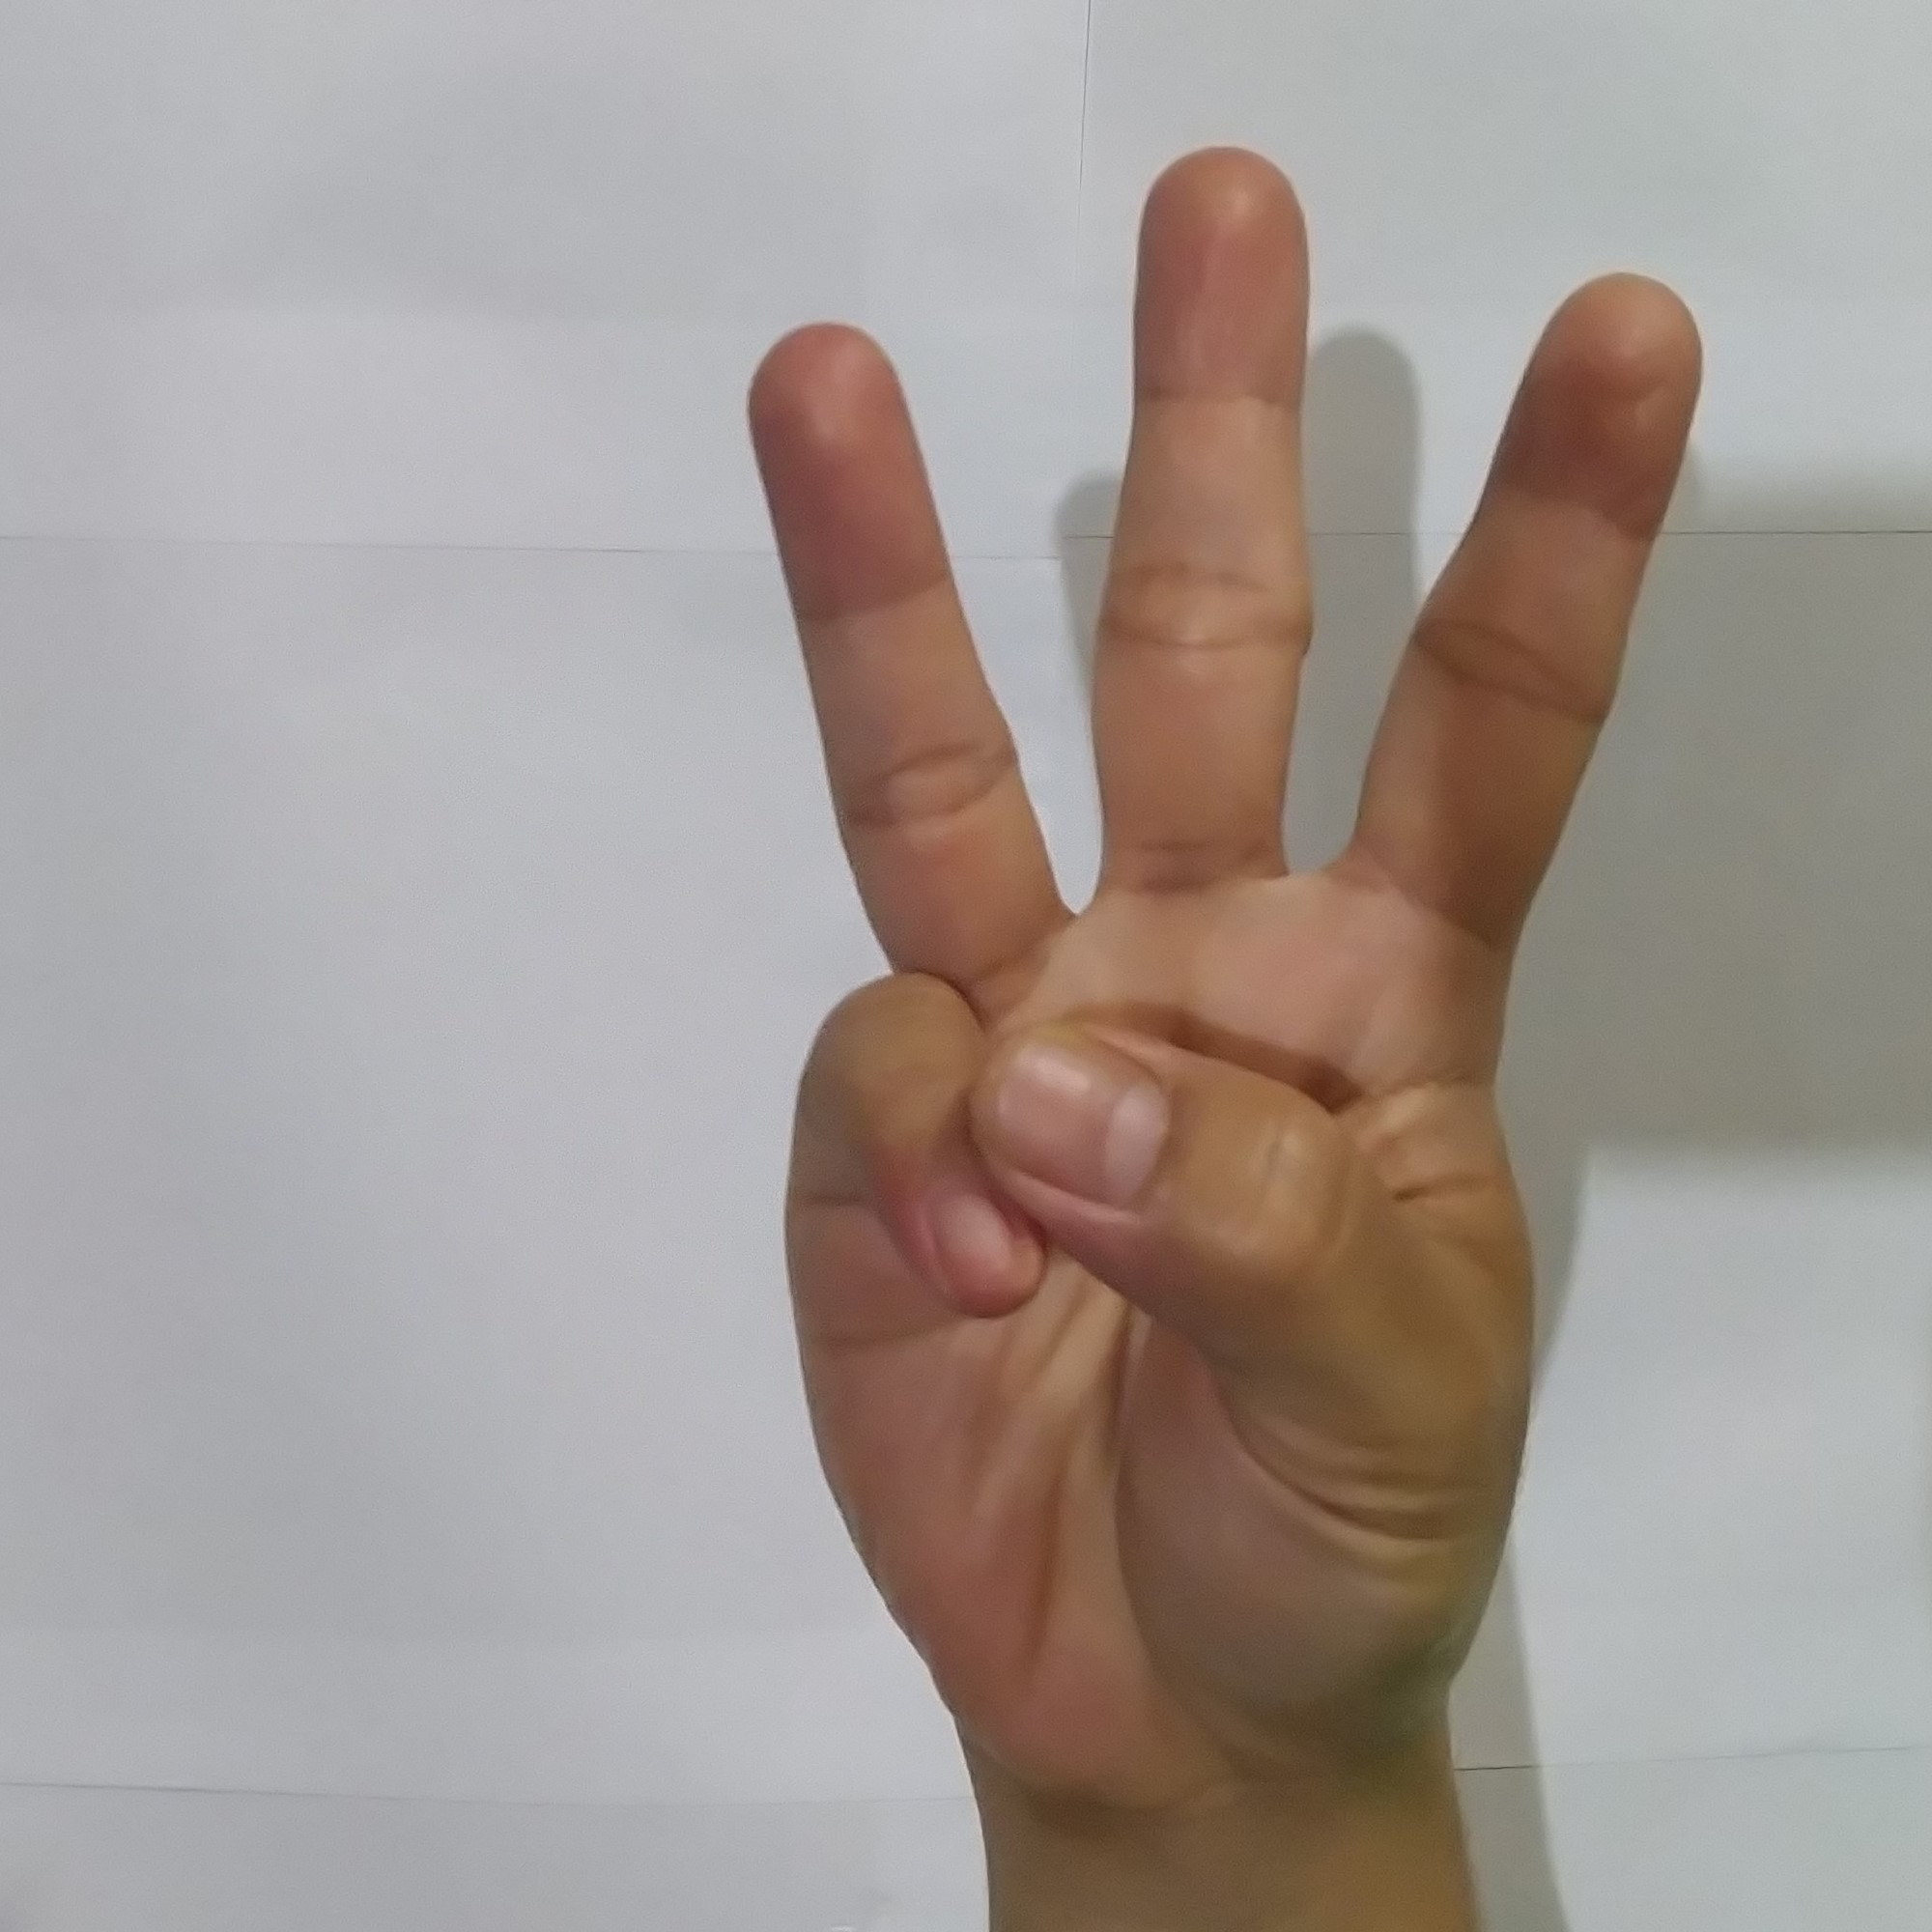W: (708, 115, 1739, 1760)
